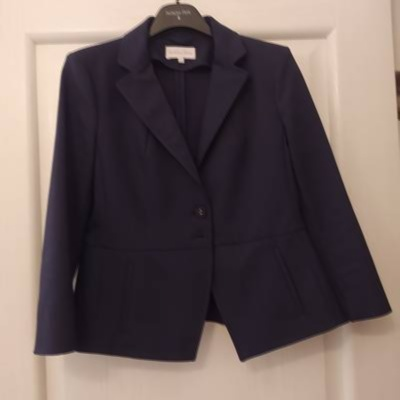Blazer: (36, 29, 392, 369)
